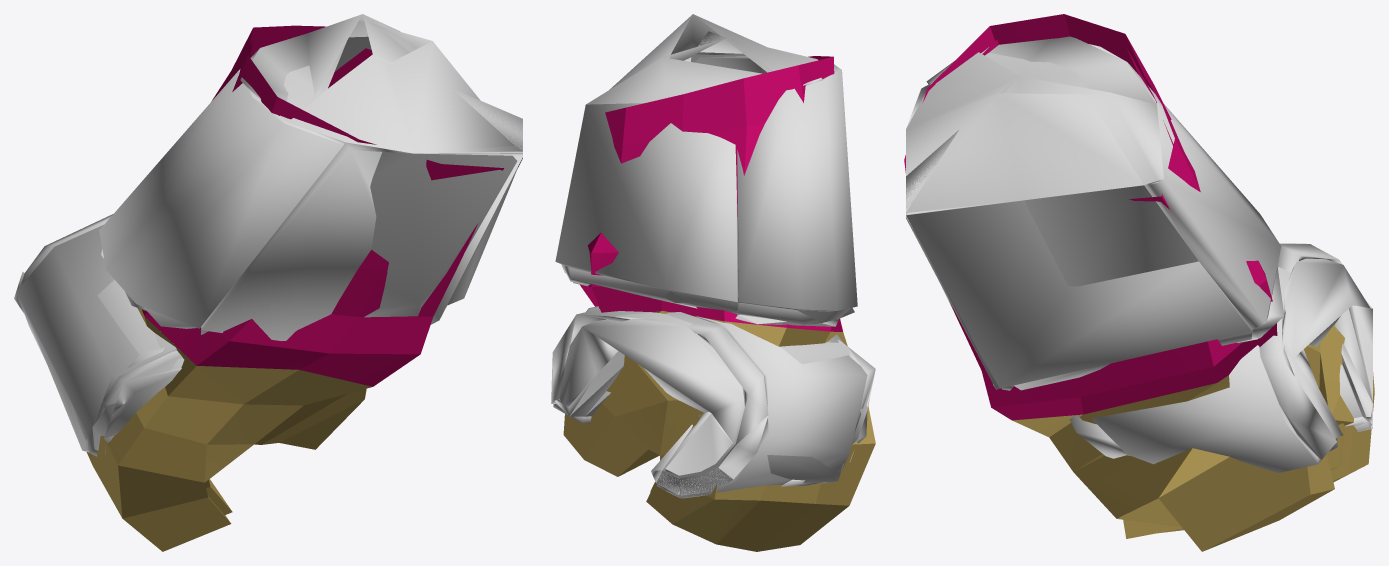
The model's file is Gauntlet_L.fbx.
3 views of the same model, side by side, from view 1: azimuth 30°, elevation 25°; view 2: azimuth 150°, elevation 25°; view 3: azimuth 270°, elevation 25° (orthographic). The views are drawn at different scales.
Visible parts, largest first — view 1: Gauntlet_L, Gauntlet_L_OuterCage, Gauntlet_L_InnerCage; view 2: Gauntlet_L, Gauntlet_L_OuterCage; view 3: Gauntlet_L, Gauntlet_L_OuterCage, Gauntlet_L_InnerCage.
Boxes of the visible parts, x1=… form: Gauntlet_L: x1=14, y1=14, x2=522, y2=456; Gauntlet_L_OuterCage: x1=86, y1=25, x2=503, y2=551; Gauntlet_L_InnerCage: x1=205, y1=37, x2=372, y2=515; Gauntlet_L: x1=551, y1=14, x2=875, y2=498; Gauntlet_L_OuterCage: x1=563, y1=56, x2=875, y2=551; Gauntlet_L: x1=906, y1=36, x2=1372, y2=472; Gauntlet_L_OuterCage: x1=904, y1=14, x2=1374, y2=551; Gauntlet_L_InnerCage: x1=982, y1=28, x2=1344, y2=527.
Bounding box in the file's own units: 1.02 × 1.61 × 1.27.
